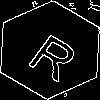R: (25, 25, 87, 83)
